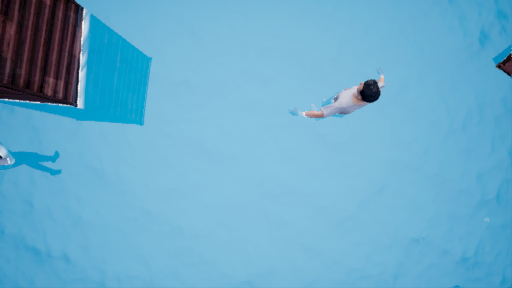person: (288, 65, 385, 131)
